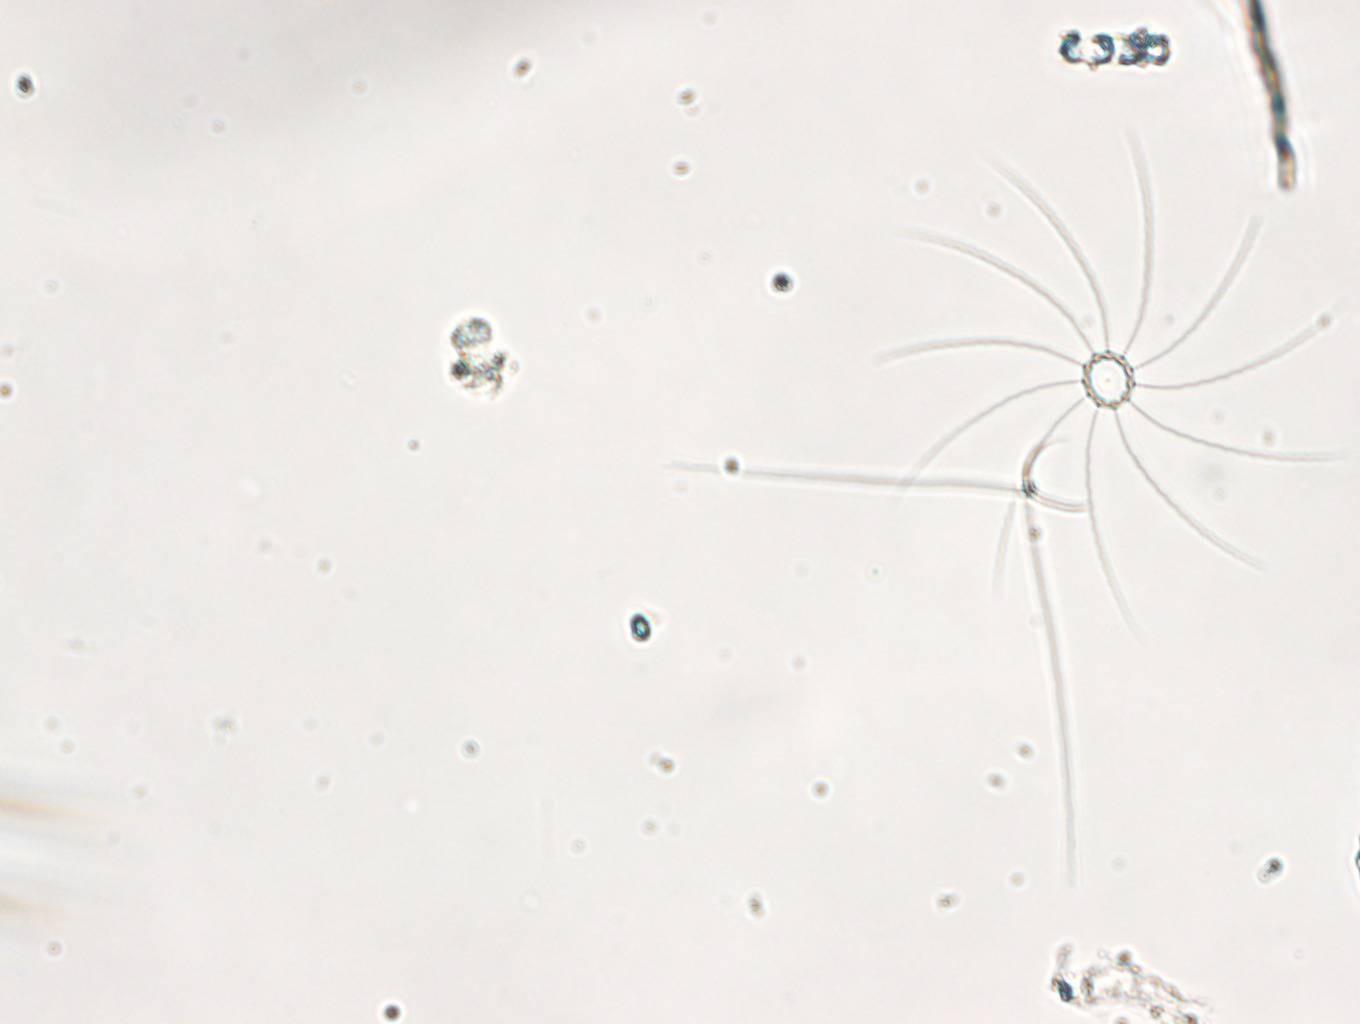bacteriastrum: (867, 130, 1356, 630)
